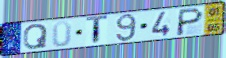0: (51, 20, 74, 49)
4: (151, 10, 173, 38)
9: (115, 13, 139, 43)
P: (175, 6, 206, 37)
Q: (23, 23, 50, 51)
T: (85, 14, 109, 46)
